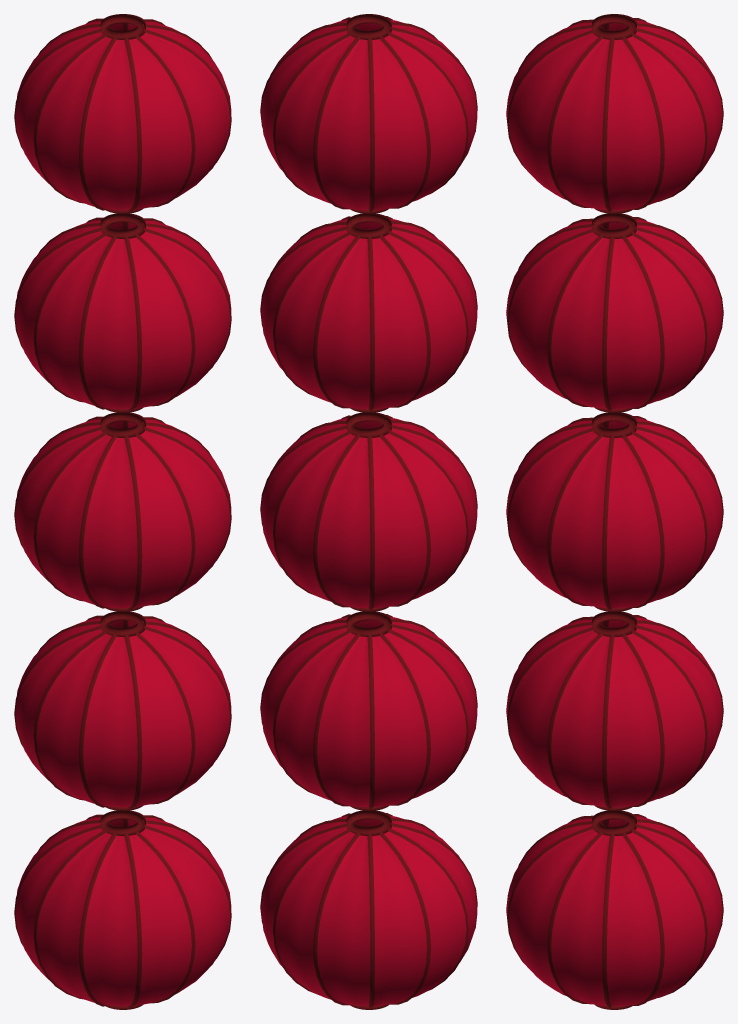
The model's file is lantern.fbx.
The picture shows the model from 3 angles, left to right: view 1: azimuth 30°, elevation 25°; view 2: azimuth 150°, elevation 25°; view 3: azimuth 270°, elevation 25°; orthographic projection.
Parts seen in each view (by area): view 1: Sphere; view 2: Sphere; view 3: Sphere.
Boxes of the visible parts, x1,y1,x2,y2 form: Sphere: (14,14,231,1009); Sphere: (260,14,477,1009); Sphere: (506,14,723,1009).
Bounding box in the file's own units: 85.29 × 422 × 85.3.
